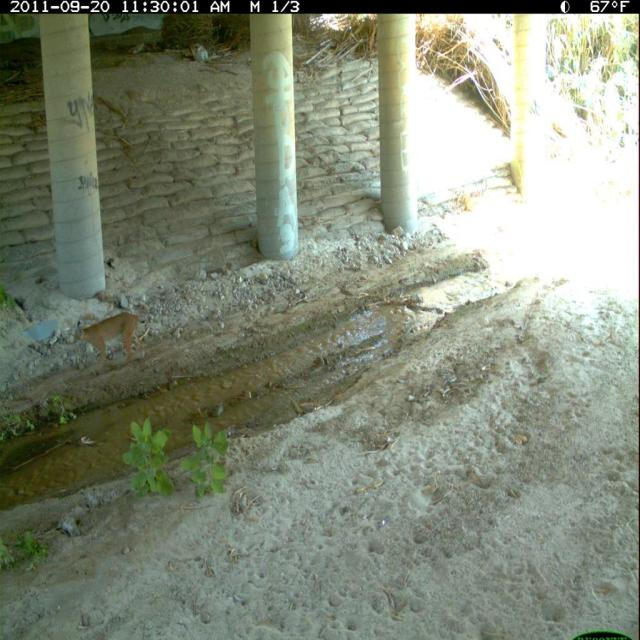bobcat: (70, 309, 149, 378)
